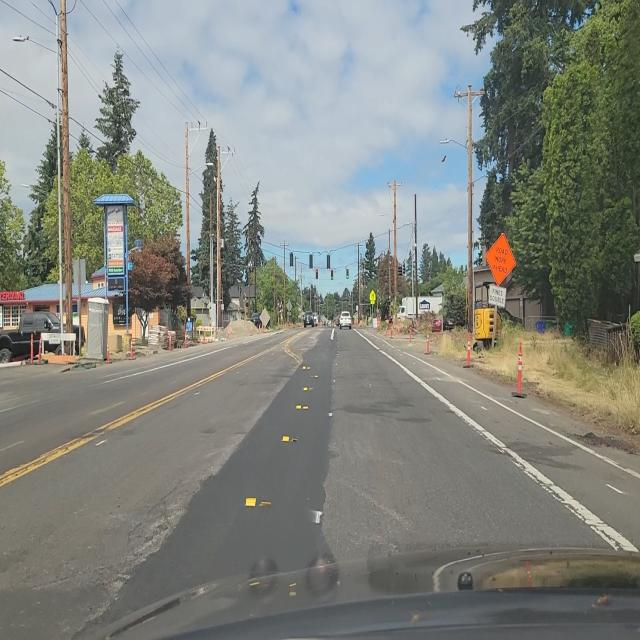car: (2, 313, 89, 366), (339, 311, 353, 331), (303, 311, 315, 328), (250, 312, 262, 327), (313, 312, 319, 326)
crosswalk-sign: (372, 281, 382, 312), (370, 291, 376, 302)
delineator: (516, 342, 524, 396), (463, 330, 473, 368), (36, 333, 44, 364), (425, 327, 431, 355), (526, 560, 532, 587), (30, 332, 34, 364), (106, 340, 110, 363), (130, 337, 134, 360), (408, 324, 412, 344), (389, 320, 393, 338), (385, 319, 389, 337), (169, 333, 173, 350), (378, 317, 382, 333), (185, 329, 188, 349), (228, 324, 232, 338), (250, 323, 253, 334)
